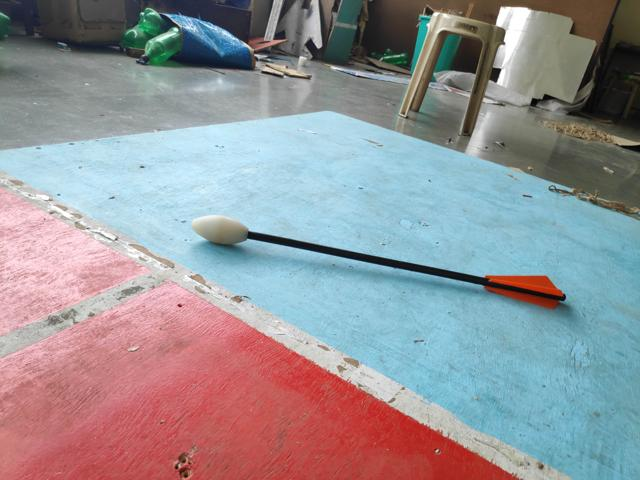Head: (190, 213, 251, 246)
Tail: (482, 270, 569, 312)
